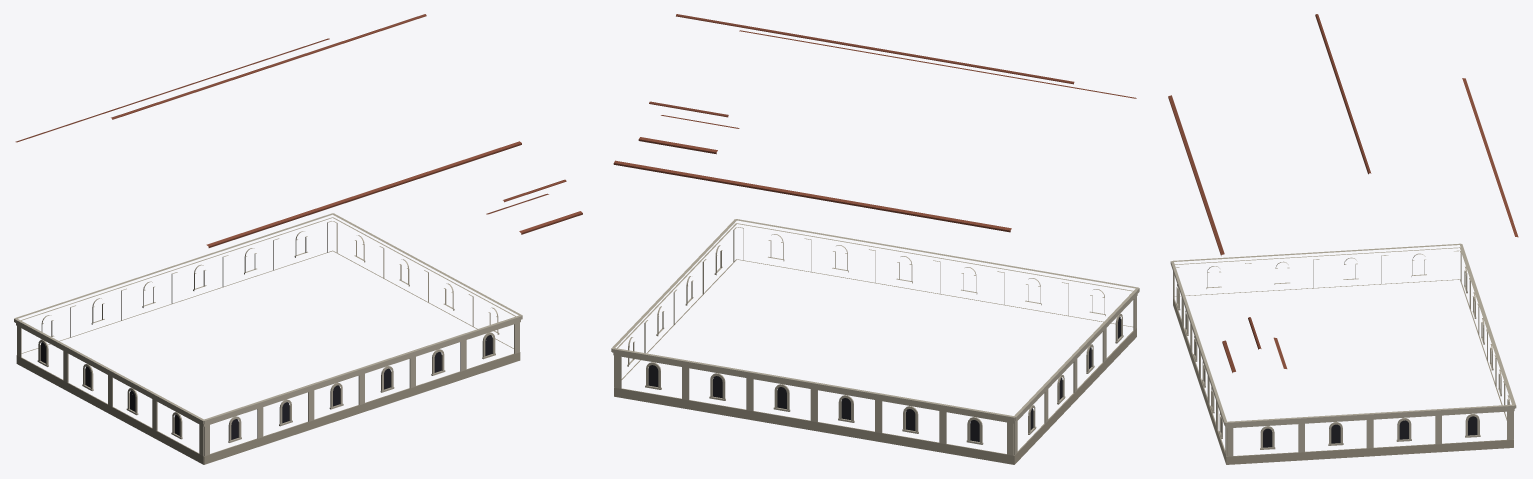
3 renders of one model, left to right at view 1: azimuth 30°, elevation 25°; view 2: azimuth 150°, elevation 25°; view 3: azimuth 270°, elevation 25°, orthographic. The views are drawn at different scales.
Visible parts, largest first — view 1: detail; view 2: detail; view 3: detail.
Part boxes in pixels (left/top/right/bottom): detail: left=14, top=14, right=582, bottom=464; detail: left=611, top=14, right=1139, bottom=464; detail: left=1168, top=14, right=1518, bottom=464.
Size of the model in its own units: 44.13 by 27.8 by 31.25.
